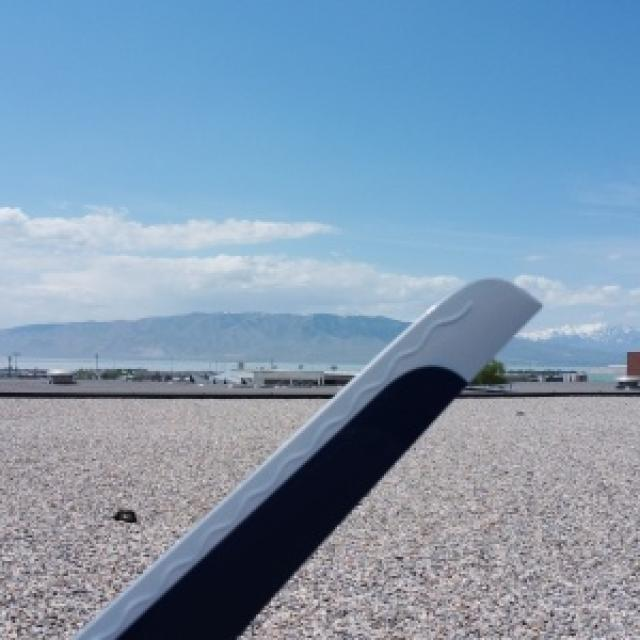healthy: (75, 279, 538, 638)
